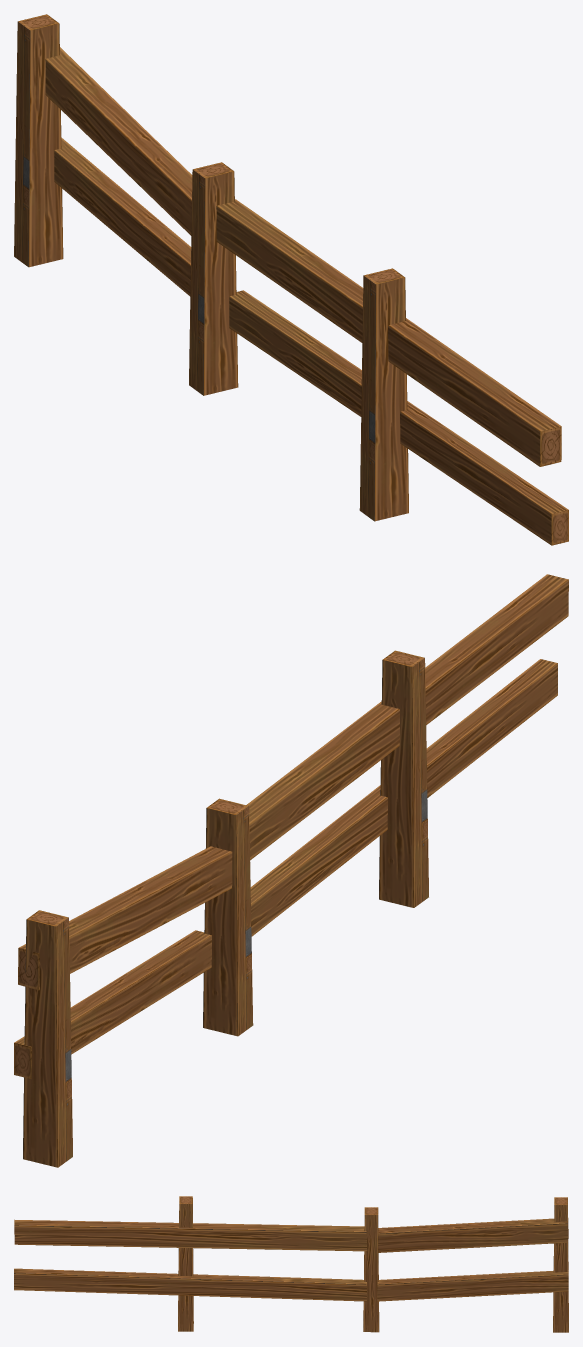
3 renders of one model, top to bottom at view 1: azimuth 30°, elevation 25°; view 2: azimuth 150°, elevation 25°; view 3: azimuth 270°, elevation 25°, orthographic. The views are drawn at different scales.
Visible parts, largest first — view 1: Cube.2126; view 2: Cube.2126; view 3: Cube.2126.
Part boxes in pixels (left/top/right/bottom): Cube.2126: left=14, top=14, right=568, bottom=545; Cube.2126: left=14, top=574, right=568, bottom=1167; Cube.2126: left=14, top=1196, right=568, bottom=1332.
Size of the model in its own units: 26.61 by 132 by 522.
1 material, 1 textured.
